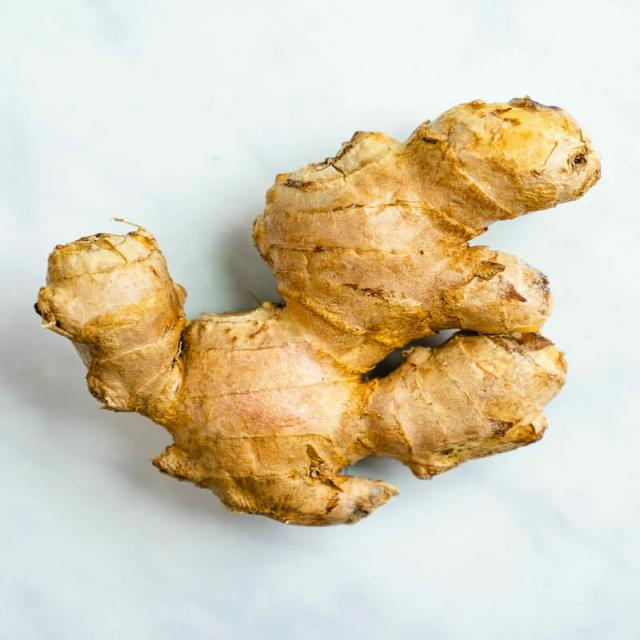ginger-root: (22, 83, 618, 547)
